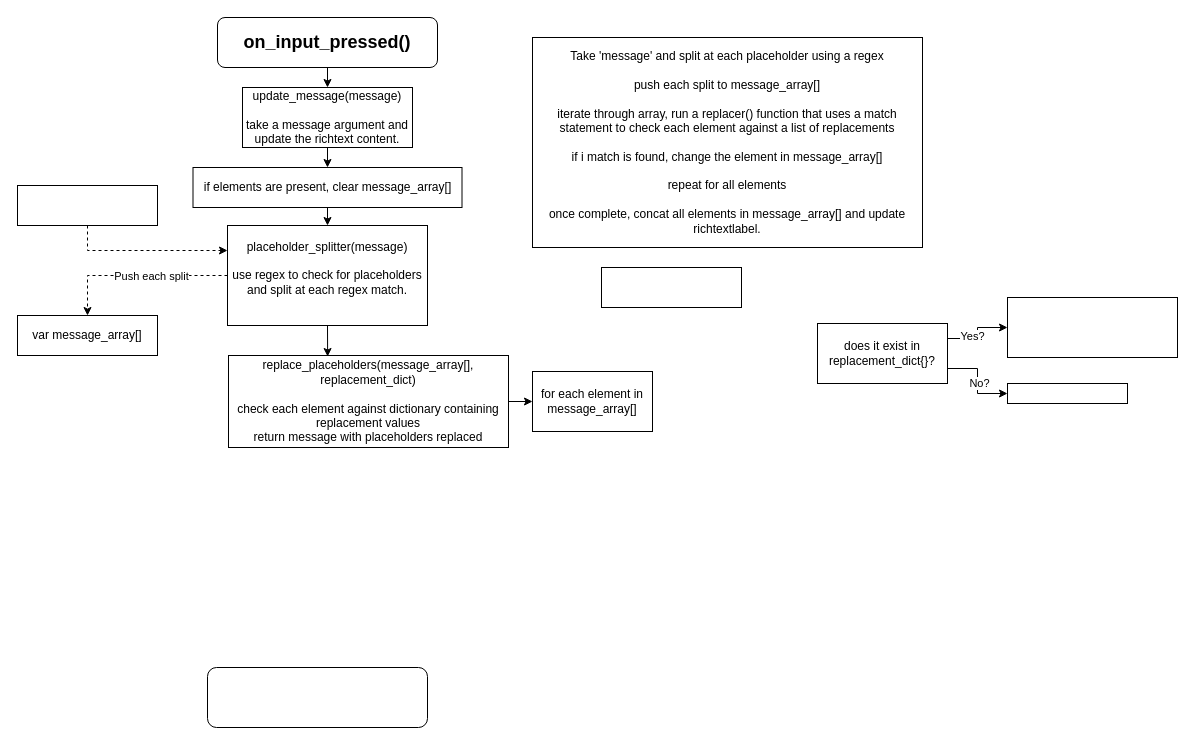
The diagram is 1195 pixels wide and 751 high, and some of its shapes have lost their labels. The centre of each missing label's shape, as x and y in pixels:
do nothing: the point at 1067,393
set element to replacement_dict.element: the point at 1092,327
Update RichTextLabel.text: the point at 317,697
var replacement_dict{}: the point at 671,287
var replacement_regex: the point at 87,205
